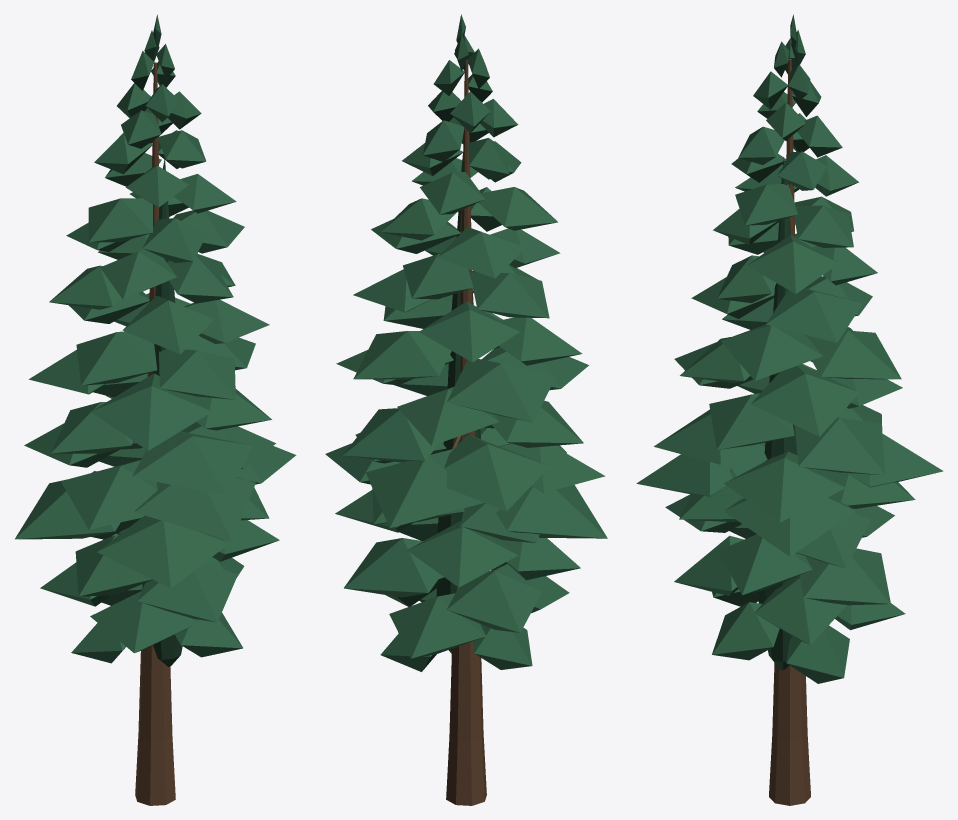
File: irregular-mature-lod1.glb
3 renders of one model, left to right at view 1: azimuth 30°, elevation 25°; view 2: azimuth 150°, elevation 25°; view 3: azimuth 270°, elevation 25°, orthographic.
Visible parts, largest first — view 1: OuterNeedles, InnerNeedles, Bark; view 2: OuterNeedles, InnerNeedles, Bark; view 3: OuterNeedles, InnerNeedles, Bark.
Boxes of the visible parts, box(x1,y1,x2,y2) form: OuterNeedles: box(15, 14, 296, 653); InnerNeedles: box(19, 29, 277, 666); Bark: box(135, 62, 175, 805); OuterNeedles: box(325, 14, 607, 665); InnerNeedles: box(337, 28, 605, 671); Bark: box(446, 60, 486, 805); OuterNeedles: box(636, 14, 943, 677); InnerNeedles: box(640, 35, 935, 683); Bark: box(764, 58, 810, 805).
Bounding box in the file's own units: 8.5 × 22.5 × 8.
